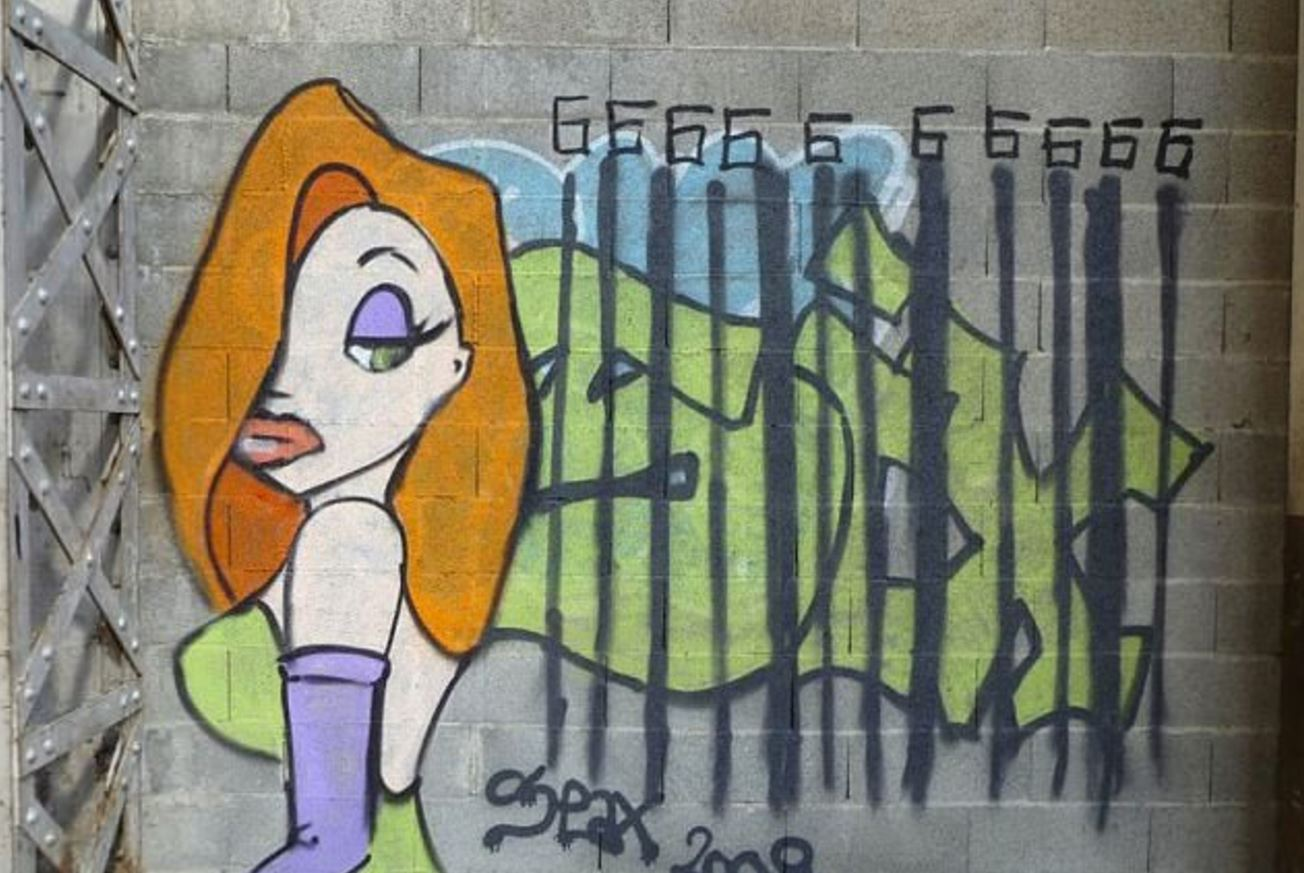graphite: (506, 234, 1200, 761), (134, 53, 562, 873), (541, 81, 1243, 208), (486, 756, 841, 873)
